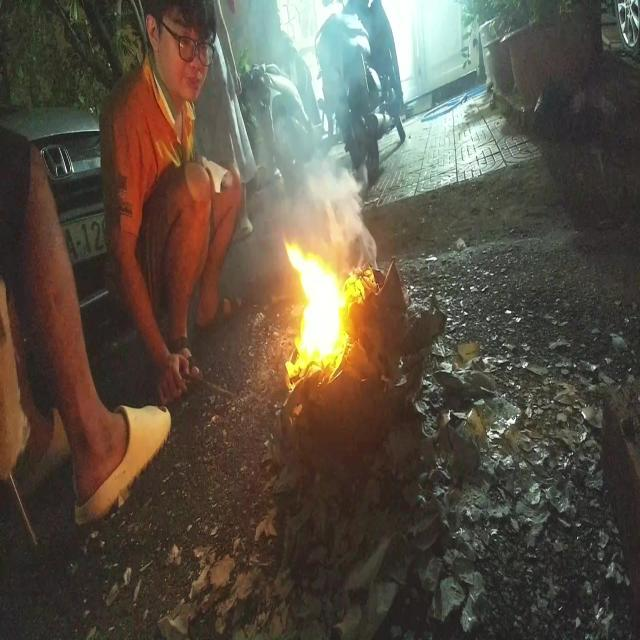Fire: (280, 246, 376, 380)
Smoke: (244, 158, 386, 278)
